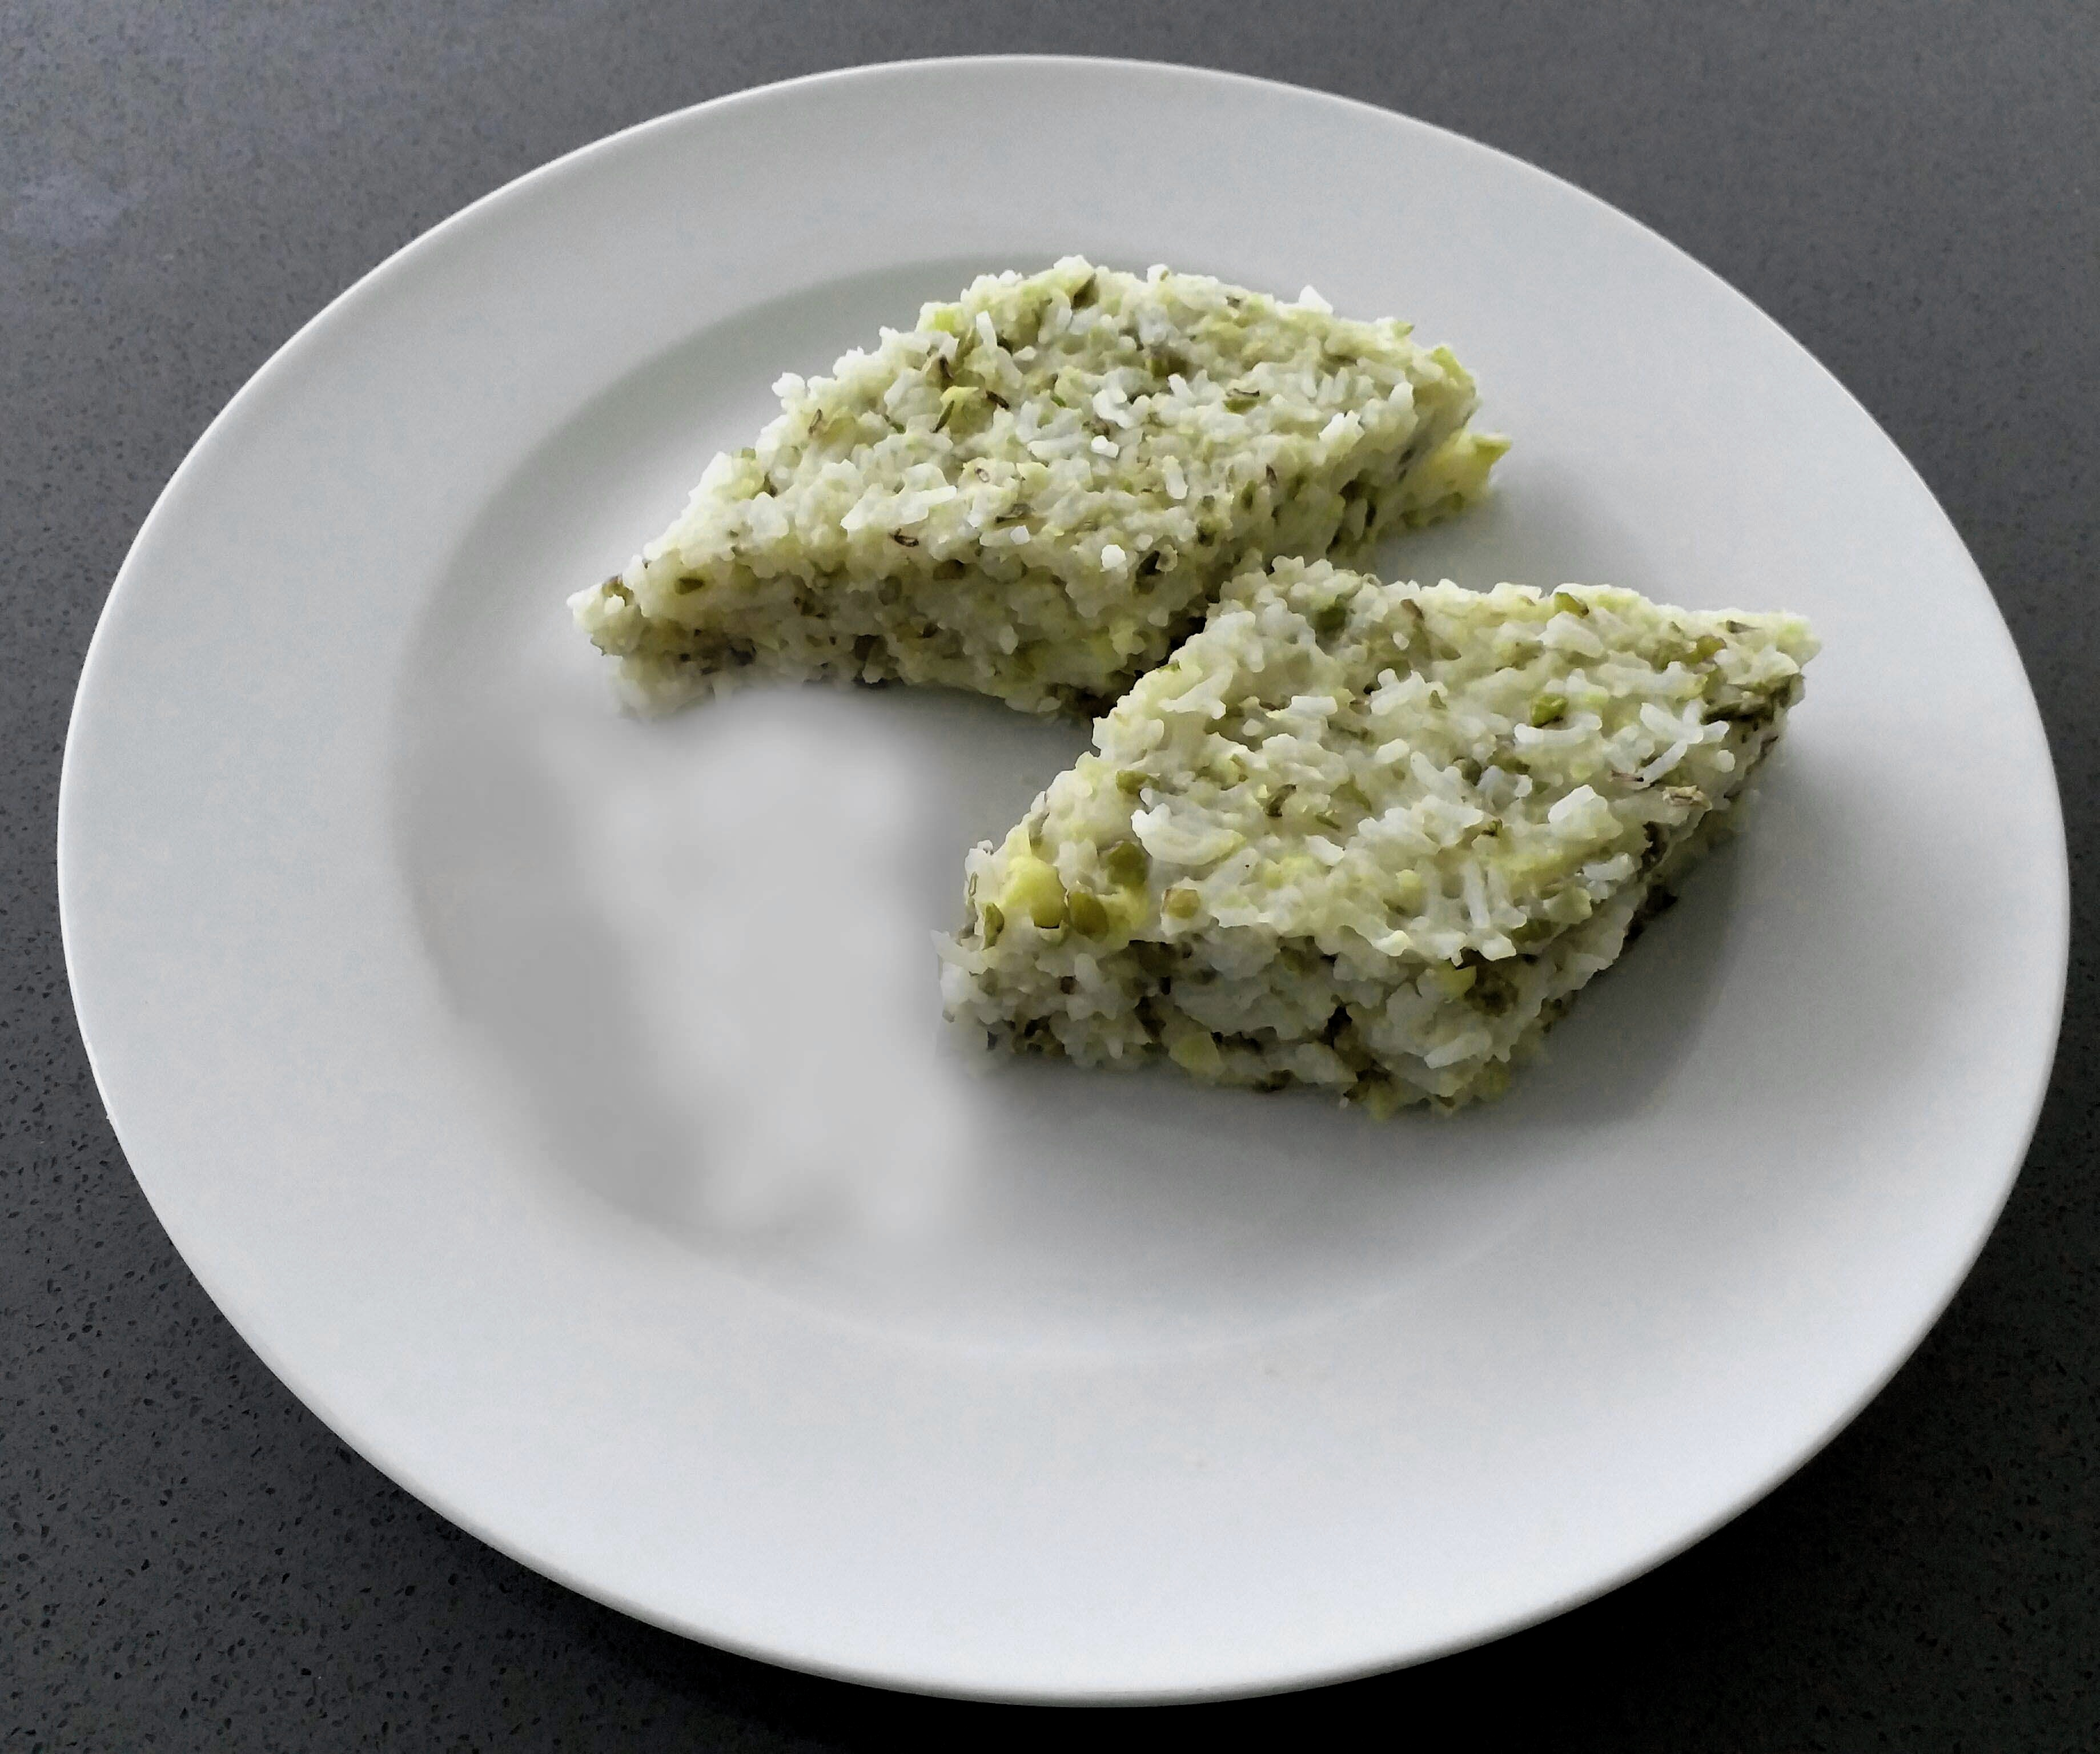kiribath: (931, 554, 1826, 1121), (571, 252, 1507, 710)
